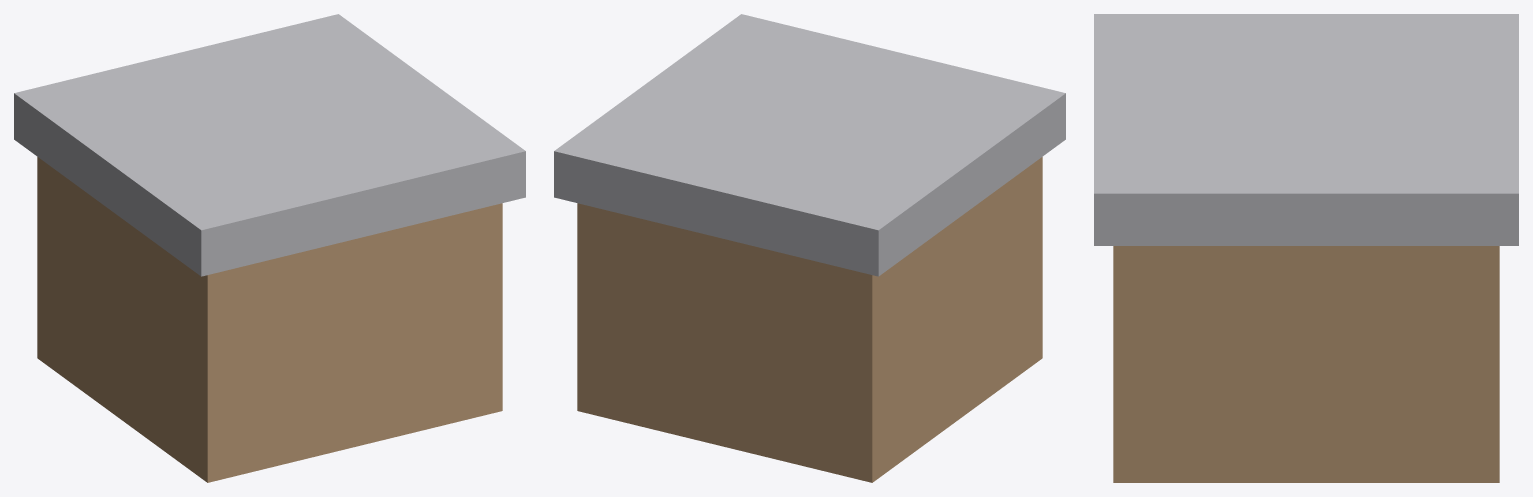
The model's file is Bld_DS_Coop.glb.
3 views of the same model, side by side, from view 1: azimuth 30°, elevation 25°; view 2: azimuth 150°, elevation 25°; view 3: azimuth 270°, elevation 25° (orthographic). The views are drawn at different scales.
Visible parts, largest first — view 1: Cube, Cube.001; view 2: Cube, Cube.001; view 3: Cube.001, Cube.
Part boxes in pixels (bbox=[...]): Cube: bbox=[37, 157, 502, 482]; Cube.001: bbox=[14, 14, 525, 276]; Cube: bbox=[577, 157, 1042, 482]; Cube.001: bbox=[554, 14, 1065, 276]; Cube.001: bbox=[1094, 14, 1518, 245]; Cube: bbox=[1113, 246, 1499, 482].
Bounding box in the file's own units: 2.2 × 1.7 × 2.2.
